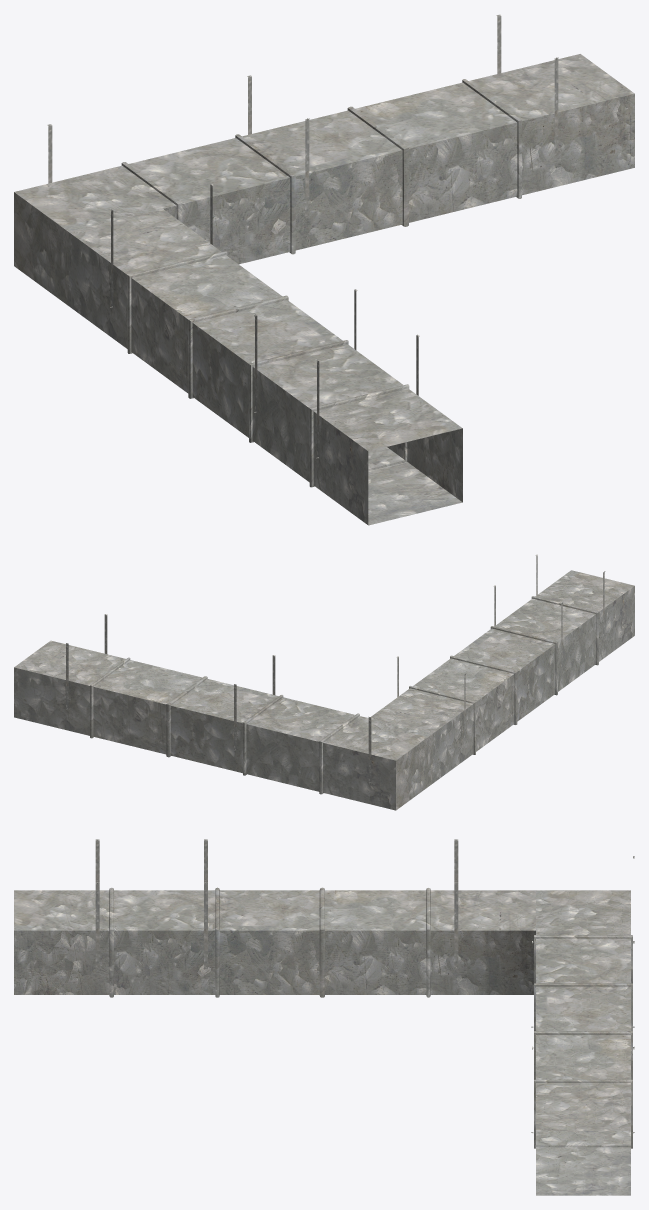
File: SM_vent_02_corner.fbx
3 renders of one model, top to bottom at view 1: azimuth 30°, elevation 25°; view 2: azimuth 150°, elevation 25°; view 3: azimuth 270°, elevation 25°, orthographic. The views are drawn at different scales.
Visible parts, largest first — view 1: SM_vent_02_corner; view 2: SM_vent_02_corner; view 3: SM_vent_02_corner.
Part boxes in pixels (<box>): SM_vent_02_corner: <box>14,14,634,525</box>; SM_vent_02_corner: <box>14,554,634,810</box>; SM_vent_02_corner: <box>14,839,634,1195</box>.
Bounding box in the file's own units: 604 × 654 × 135.
Materials: 1 (1 with a texture image).
